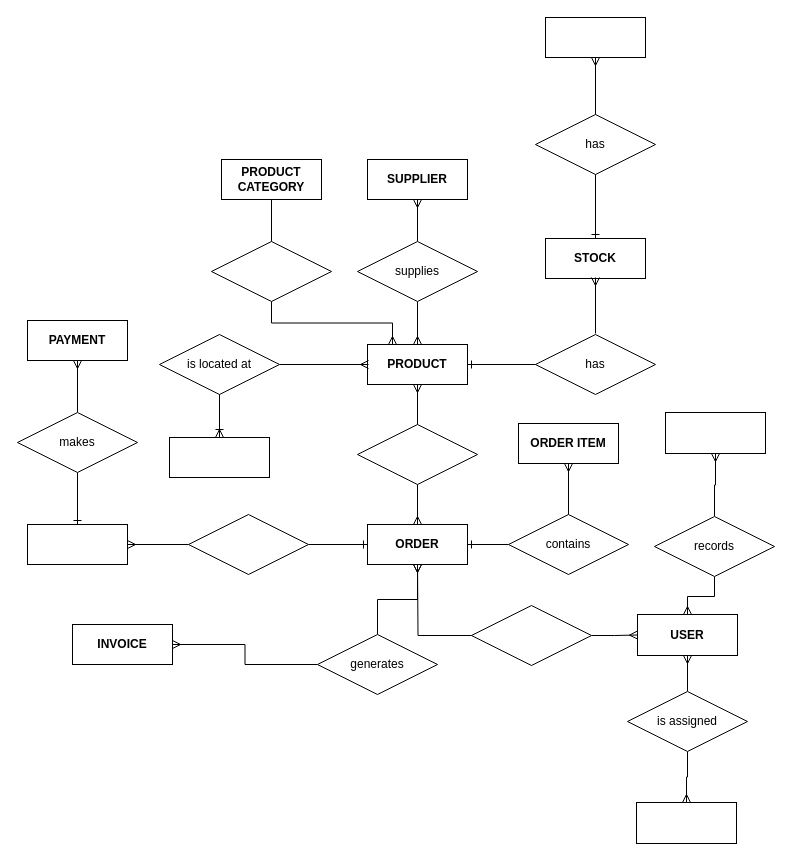
Image size: 792x861. Some labels were removed from this diagram. Here are the shapes that lost their labels. From the top down, the box of each, then its label:
(544, 16, 646, 58): STOCK MOVEMENT
(210, 240, 332, 302): is a part of
(664, 412, 766, 454): AUDIT LOG
(168, 436, 270, 478): LOCATION
(356, 424, 478, 484): is part of
(26, 524, 128, 564): CUSTOMER
(188, 514, 308, 574): places
(470, 604, 592, 666): handles
(636, 802, 736, 844): ROLE
